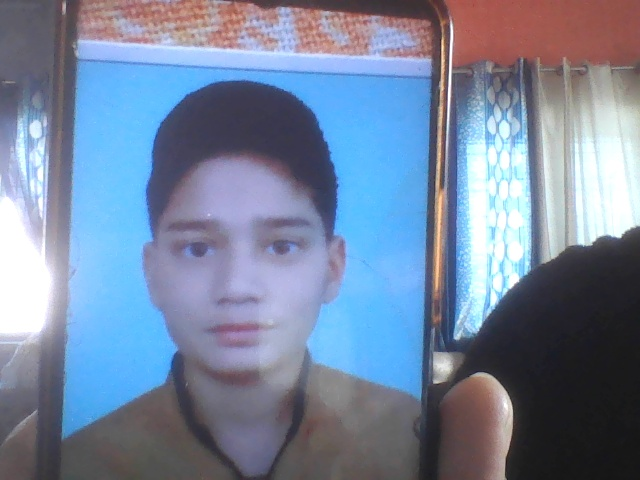fake: (130, 82, 359, 406)
